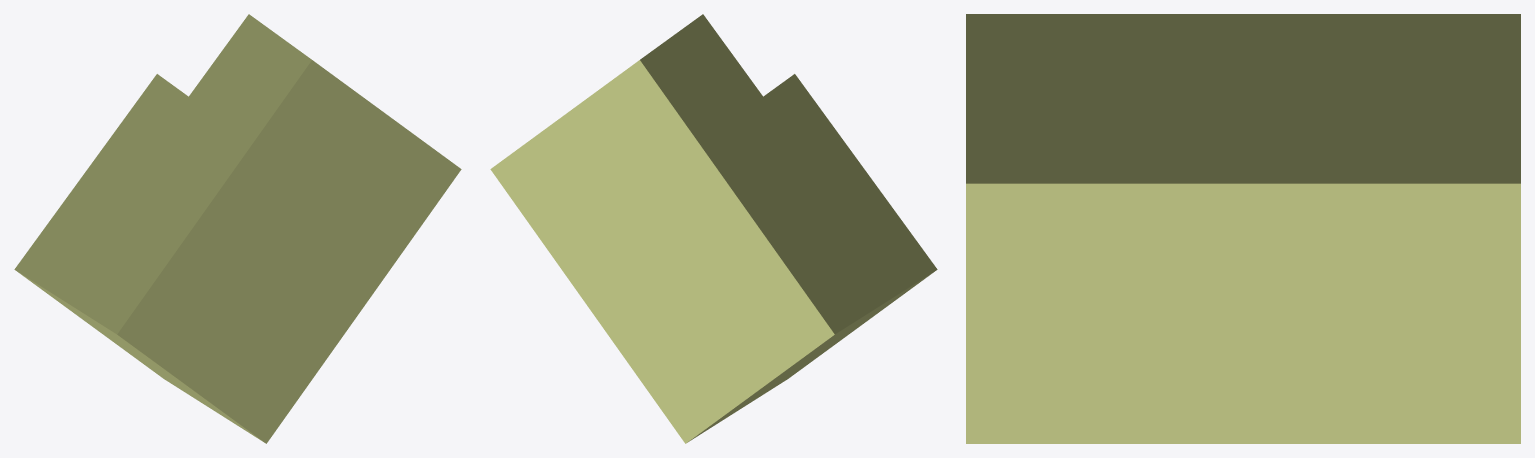
3 views of the same model, side by side, from view 1: azimuth 30°, elevation 25°; view 2: azimuth 150°, elevation 25°; view 3: azimuth 270°, elevation 25° (orthographic). The views are drawn at different scales.
Visible parts, largest first — view 1: 0_0_1_2_0_0_1_0_1_0_2; view 2: 0_0_1_2_0_0_1_0_1_0_2; view 3: 0_0_1_2_0_0_1_0_1_0_2.
Boxes of the visible parts, bbox=[...] form: 0_0_1_2_0_0_1_0_1_0_2: bbox=[14, 14, 461, 443]; 0_0_1_2_0_0_1_0_1_0_2: bbox=[490, 14, 937, 443]; 0_0_1_2_0_0_1_0_1_0_2: bbox=[966, 14, 1520, 443].
Bounding box in the file's own units: 10.36 × 9.58 × 9.
